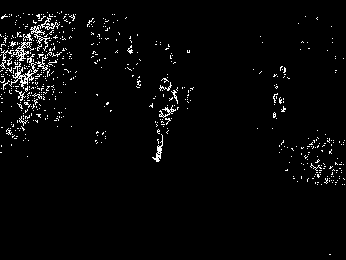person: (147, 76, 180, 165), (264, 63, 290, 124)
